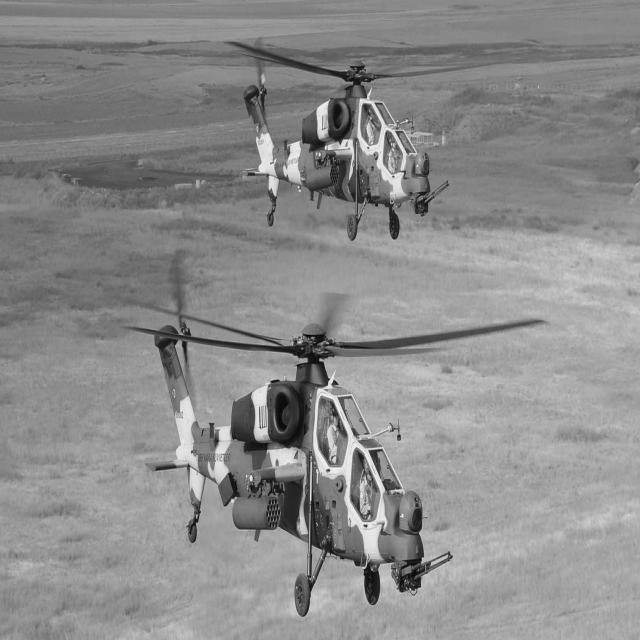helicopter: (128, 186, 478, 580), (211, 27, 505, 267)
